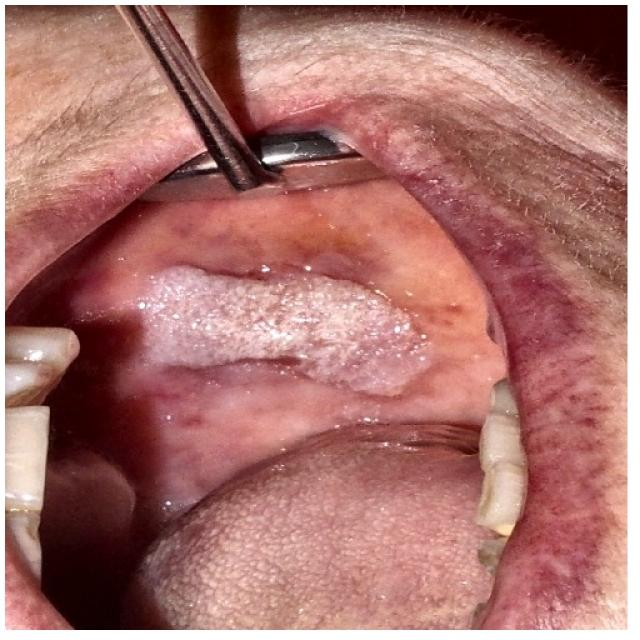cancer-detection: (122, 252, 456, 408)
processing_area: (63, 179, 504, 633)
